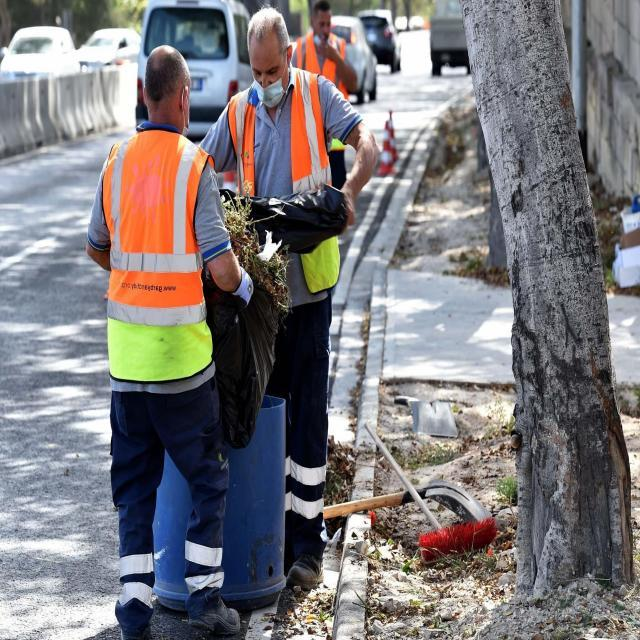reflective_jacket: (99, 130, 219, 383), (226, 70, 345, 302)
